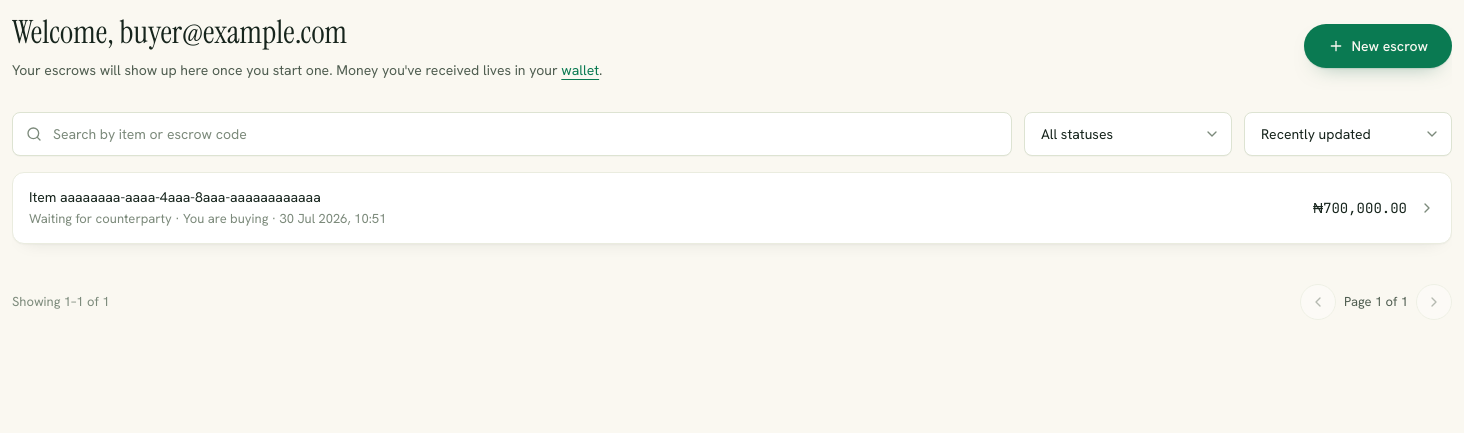
Test: DashboardPage › search, filter, sort, and pagination › clears filters from the empty state when a search matches nothing
Check: the text "Item aaaaaaaa-aaaa-4aaa-8aaa-aaaaaaaaaaaa" is shown, box [29,188,321,206]
Type "nonexistent item" into the search field named "Search escrows" at (512, 134), box [12,112,1012,156]
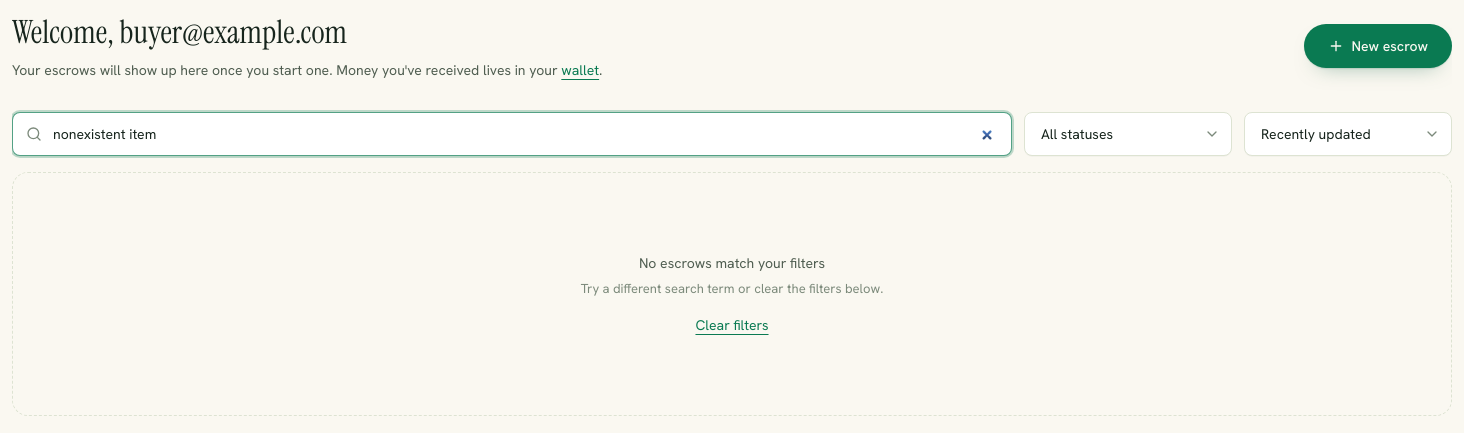
Check: the text "No escrows match your filters" is shown, box [639,253,825,273]
Click the button "Clear filters" at (732, 324), box [696,314,769,334]
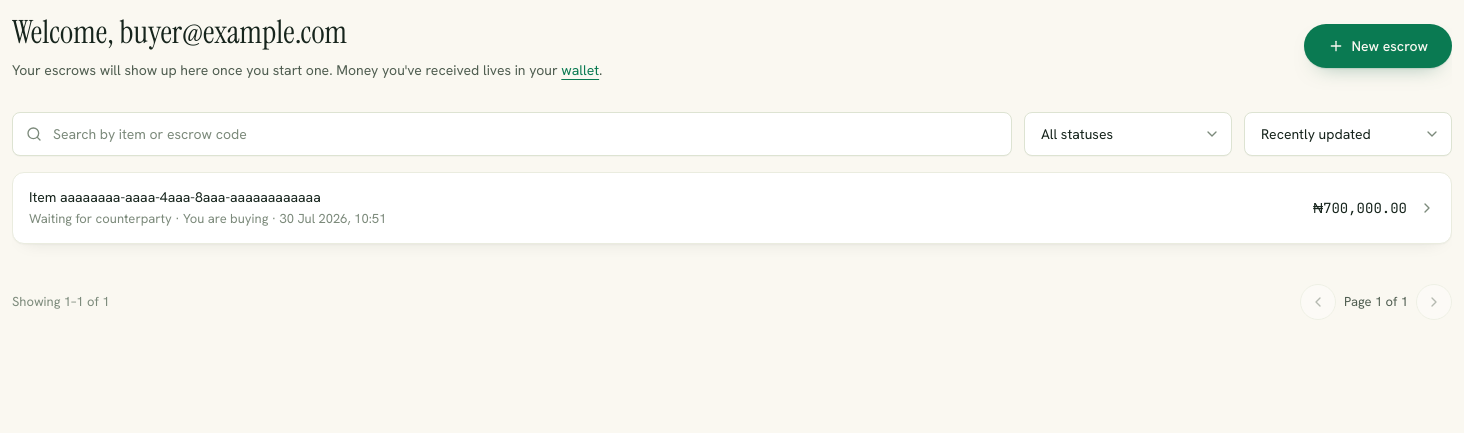
Check: the text "Item aaaaaaaa-aaaa-4aaa-8aaa-aaaaaaaaaaaa" is shown, box [29,188,321,206]
